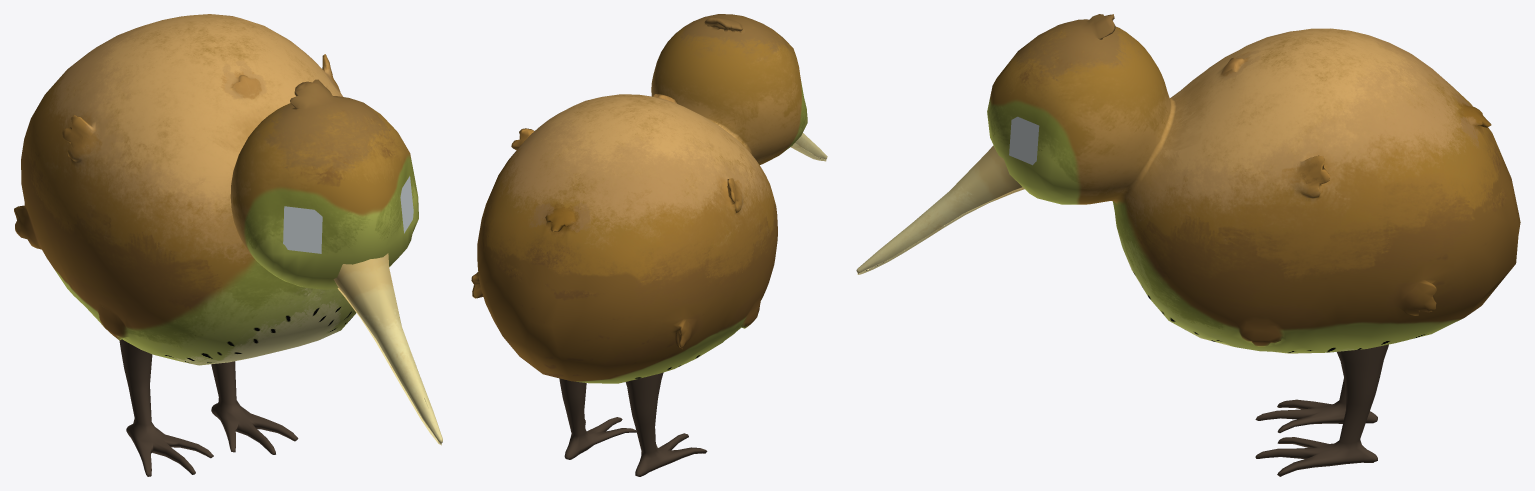
Rendered from Kiwi.fbx.
3 views of the same model, side by side, from view 1: azimuth 30°, elevation 25°; view 2: azimuth 150°, elevation 25°; view 3: azimuth 270°, elevation 25° (orthographic). The views are drawn at different scales.
Visible parts, largest first — view 1: polySurface9, polySurface7, polySurface12, polySurface13, pPlane1; view 2: polySurface9, polySurface12, polySurface13; view 3: polySurface9, polySurface13, polySurface7, polySurface12, pPlane1.
Part boxes in pixels (x1,y1,x2,y2): polySurface9: (14, 14, 418, 365); polySurface7: (333, 253, 442, 443); polySurface12: (119, 339, 213, 476); polySurface13: (211, 361, 298, 454); pPlane1: (283, 176, 413, 253); polySurface9: (471, 14, 807, 383); polySurface12: (625, 372, 707, 476); polySurface13: (559, 378, 636, 459); polySurface9: (987, 14, 1520, 353); polySurface13: (1255, 344, 1388, 476); polySurface7: (856, 145, 1022, 272); polySurface12: (1255, 378, 1377, 432); pPlane1: (1009, 116, 1039, 165).
Size of the model in its own units: 11.16 by 16.85 by 23.84.
